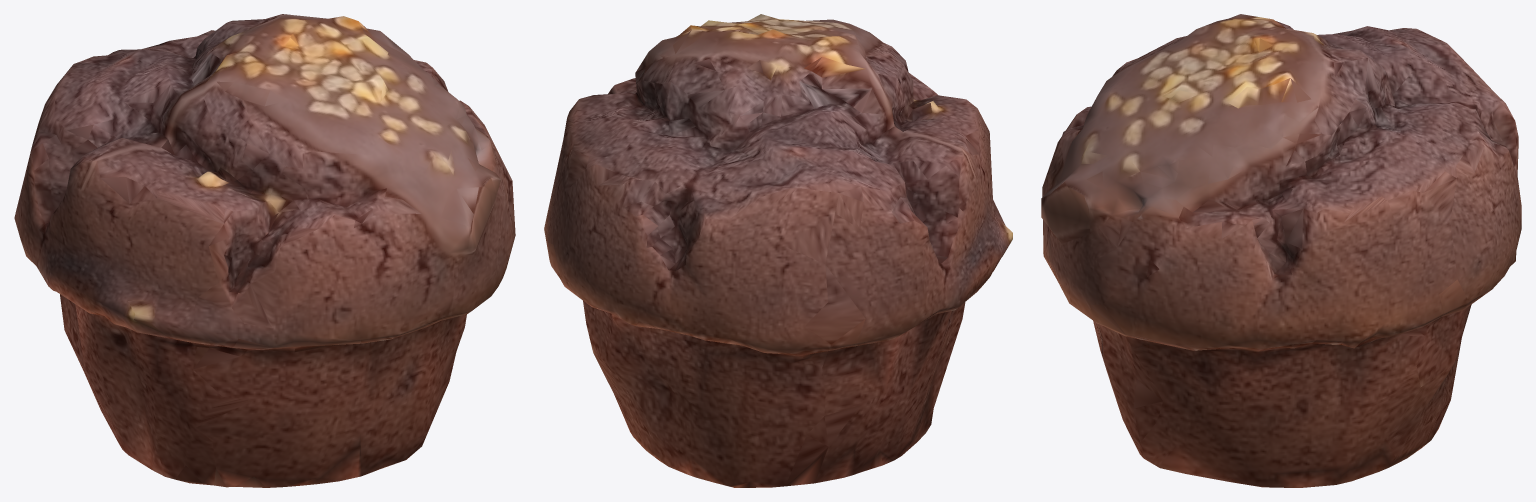
Rendered from muffin_1792.obj.
The picture shows the model from 3 angles, left to right: view 1: azimuth 30°, elevation 25°; view 2: azimuth 150°, elevation 25°; view 3: azimuth 270°, elevation 25°; orthographic projection. The views are drawn at different scales.
Bounding box in the file's own units: 14.27 × 12.99 × 14.34.
Materials: 1 (1 with a texture image).
